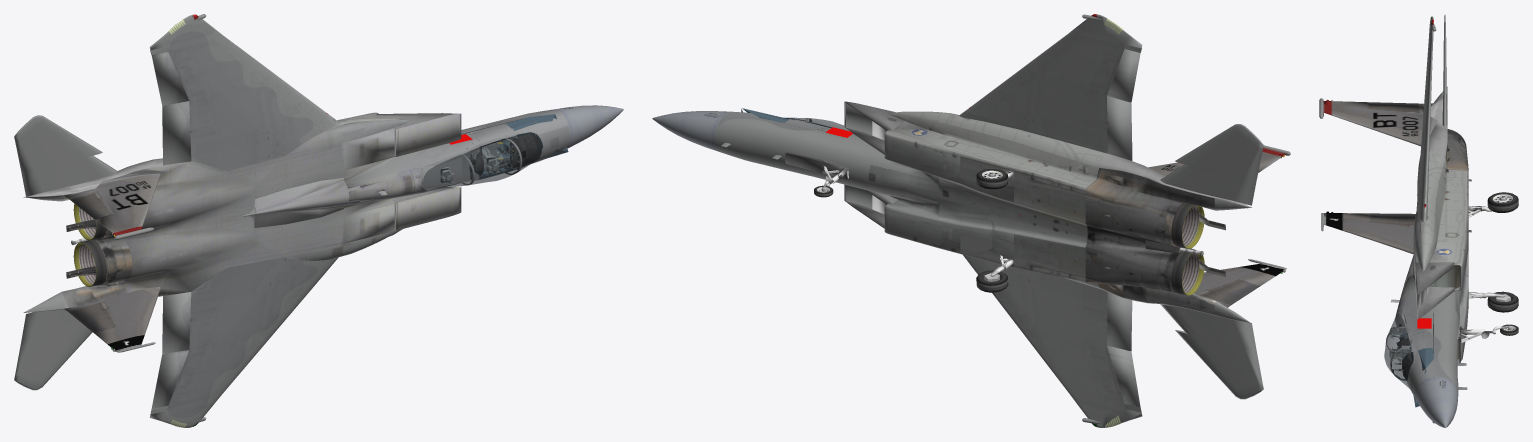
3 renders of one model, left to right at view 1: azimuth 30°, elevation 25°; view 2: azimuth 150°, elevation 25°; view 3: azimuth 270°, elevation 25°, orthographic. The views are drawn at different scales.
Visible parts, largest first — view 1: body; view 2: body, gearR, gearL, gearN; view 3: body, gearL, gearR, gearN.
Part boxes in pixels (x1,y1,x2,y2): body: [14, 14, 623, 427]; body: [652, 14, 1290, 427]; gearR: [960, 223, 1013, 292]; gearL: [960, 156, 1014, 197]; gearN: [785, 153, 847, 197]; body: [1319, 14, 1471, 427]; gearL: [1467, 192, 1518, 254]; gearR: [1466, 273, 1518, 322]; gearN: [1458, 324, 1518, 362].
Bounding box in the file's own units: 19.51 × 12.6 × 5.68.
Materials: 39 (34 with a texture image).
